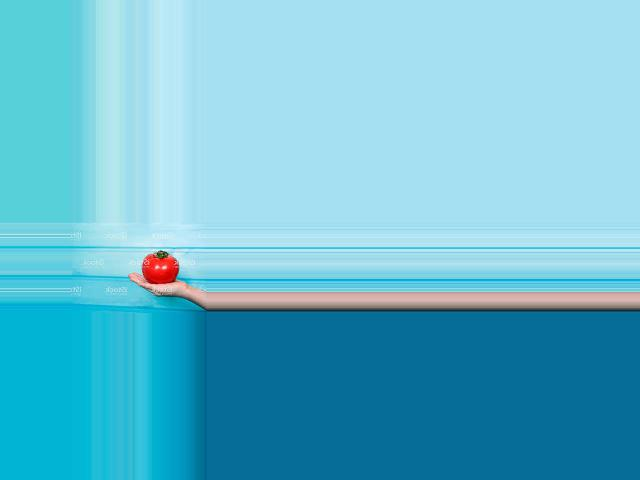tomato: (141, 251, 177, 284)
